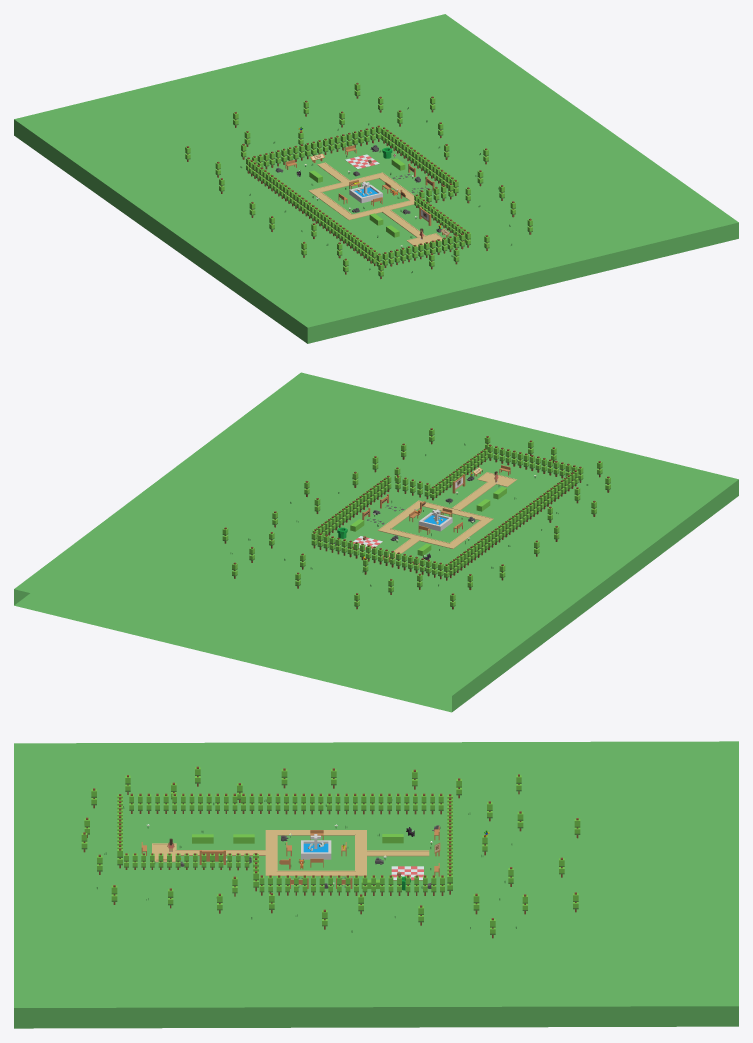
Rendered from Portfolio.glb.
3 views of the same model, one above another, from view 1: azimuth 30°, elevation 25°; view 2: azimuth 150°, elevation 25°; view 3: azimuth 270°, elevation 25° (orthographic). The views are drawn at different scales.
Visible parts, largest first — view 1: Level; view 2: Level; view 3: Level.
Boxes of the visible parts, x1,y1,x2,y2 form: Level: (14, 14, 738, 343); Level: (14, 372, 738, 712); Level: (14, 741, 738, 1028).
Size of the model in its own units: 413 by 32.96 by 472.
Materials: 35 (1 with a texture image).
